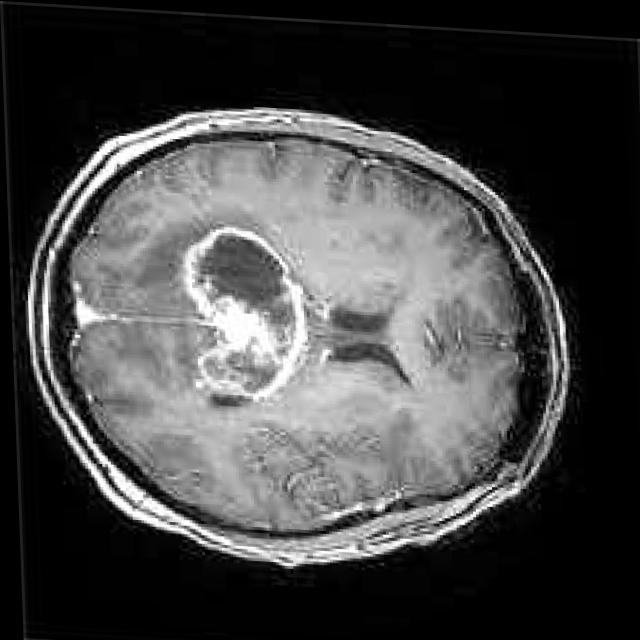Tumor: (189, 223, 302, 393)
